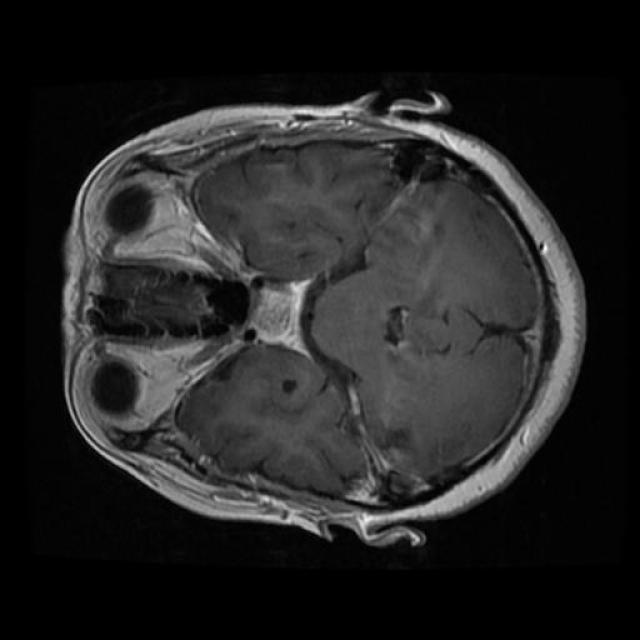Pituitary: (243, 279, 314, 358)
